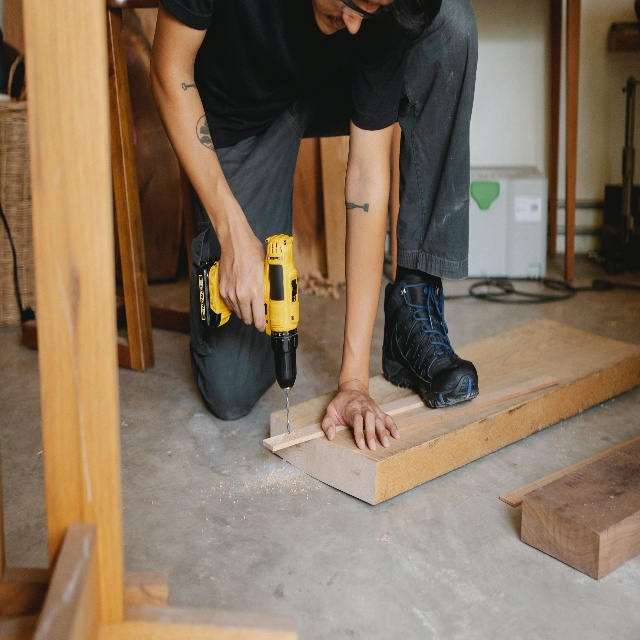Gafas: (330, 0, 373, 20)
Sin_guantes: (218, 220, 268, 332), (320, 382, 400, 451)
